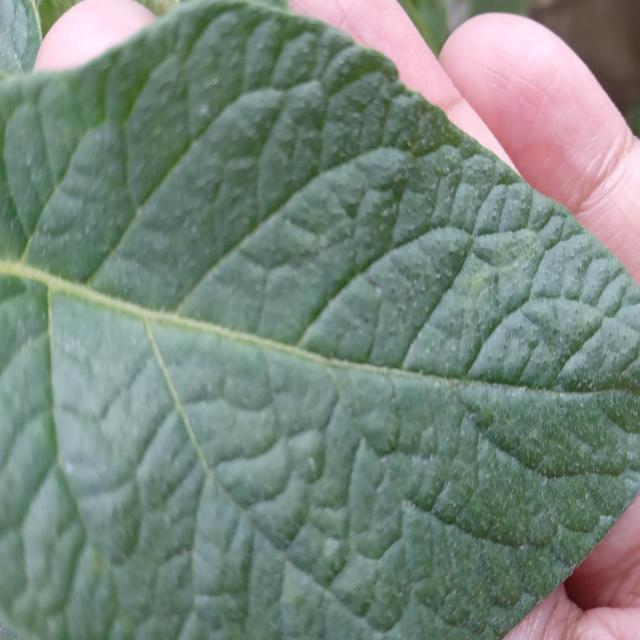healthy: (1, 3, 636, 637)
